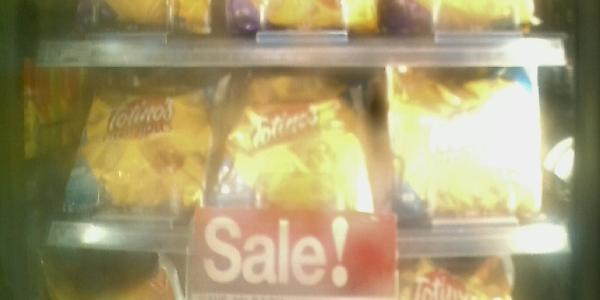icecream: (216, 62, 384, 264), (392, 65, 547, 268), (66, 66, 212, 252)
